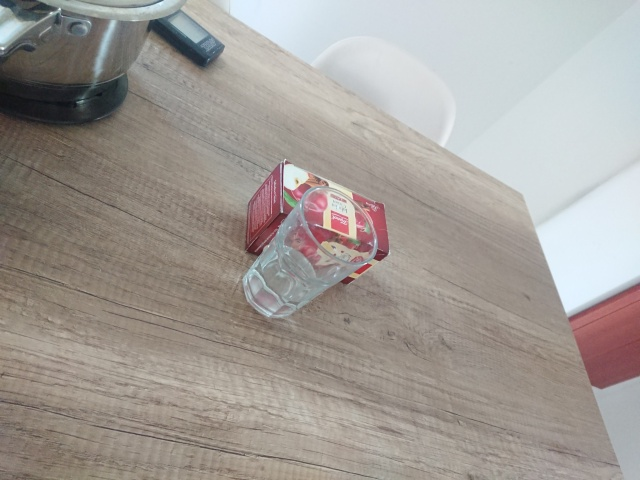Franck Apple Cinnamon Tea 60g: (242, 157, 392, 286)
